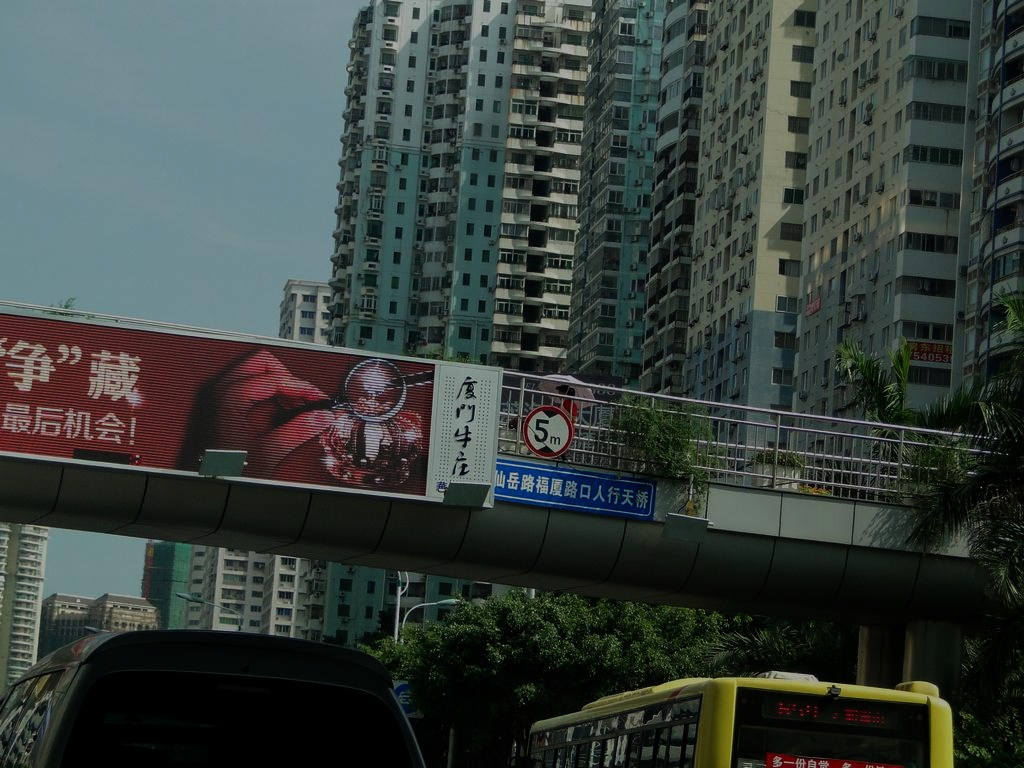Prohibitory Signs: (522, 402, 577, 457)
